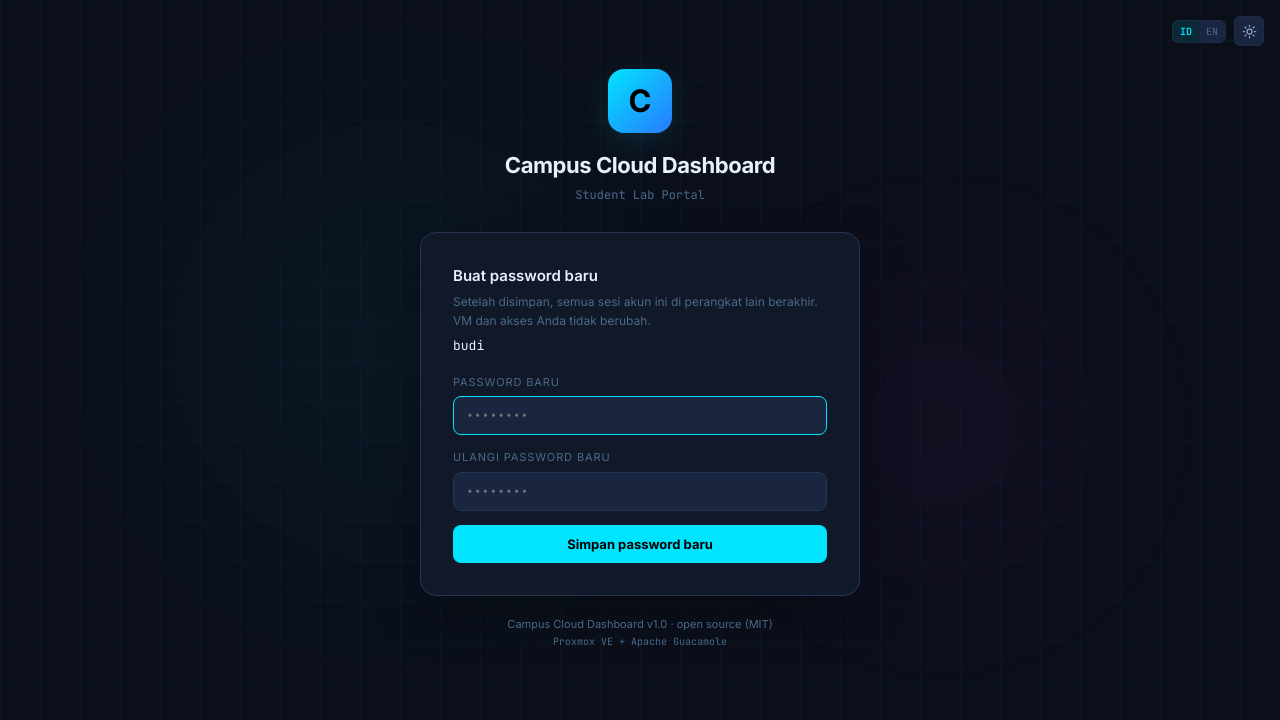
it: Halaman login: reset password lewat email › tautan ?reset= membuka form password baru, lalu token dihapus dari alamat
In the password field labelled "Password baru": (640, 416) [453, 396, 827, 435], type "PasswordBaru#9"
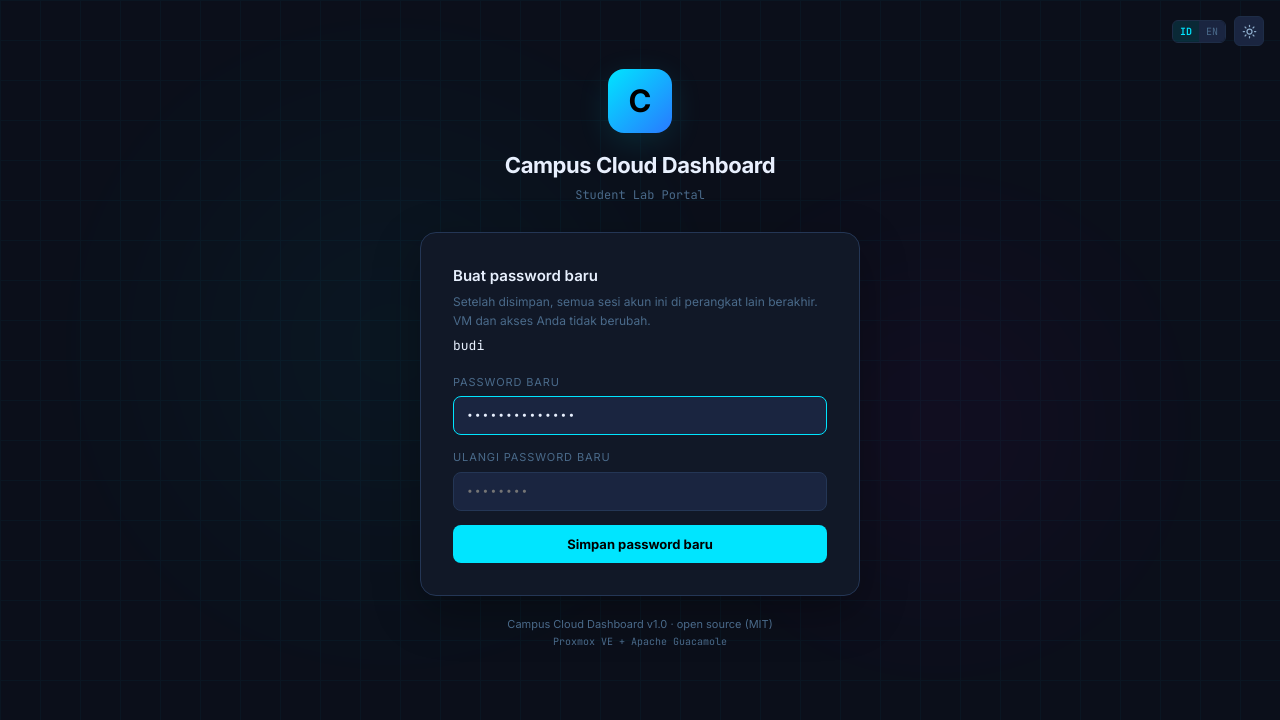
In the password field labelled "Ulangi password baru": (640, 491) [453, 472, 827, 511], type "PasswordBaru#9"
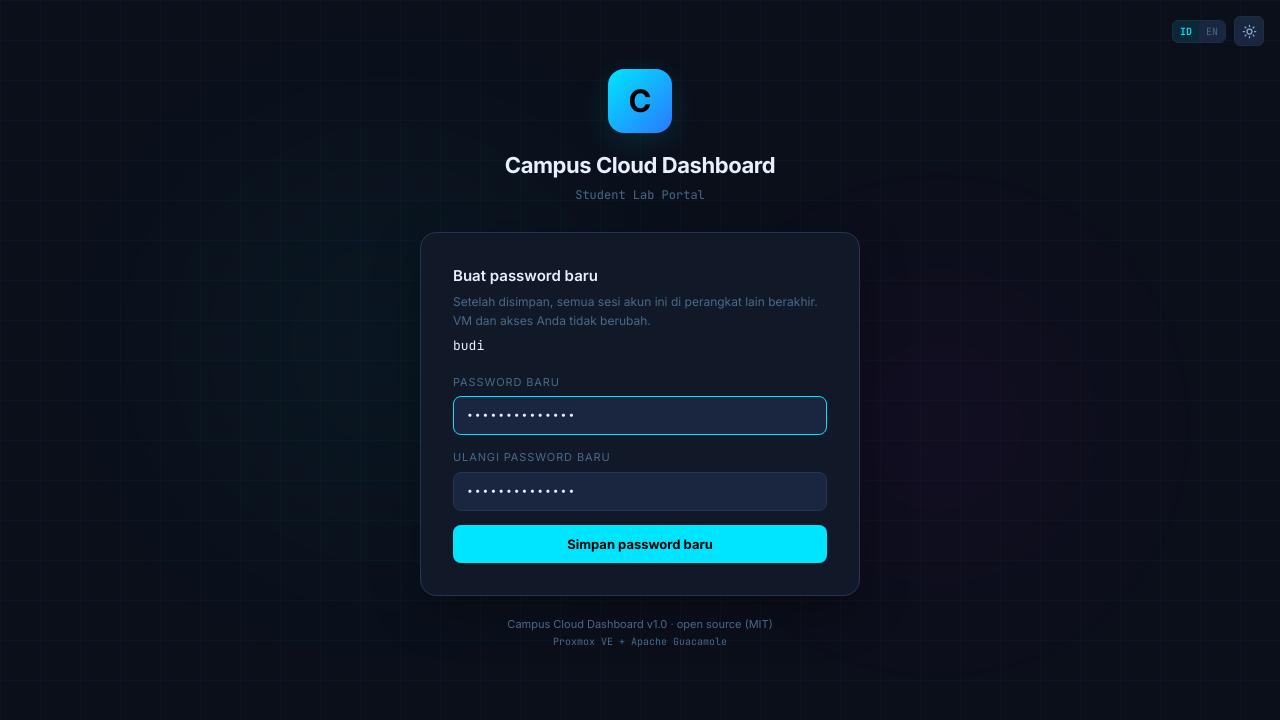
Click the button "Simpan password baru": (640, 544) [453, 525, 827, 563]
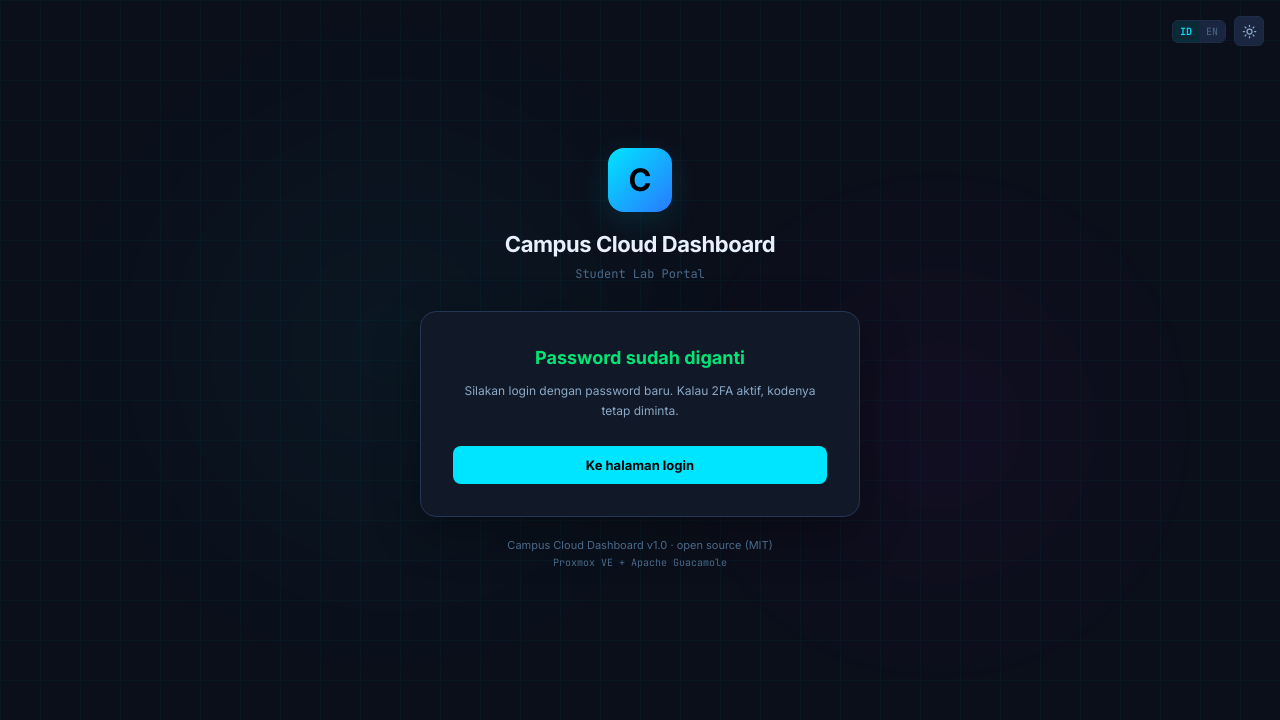
Expected: the text "Password sudah diganti" is shown, [535, 347, 745, 368]
